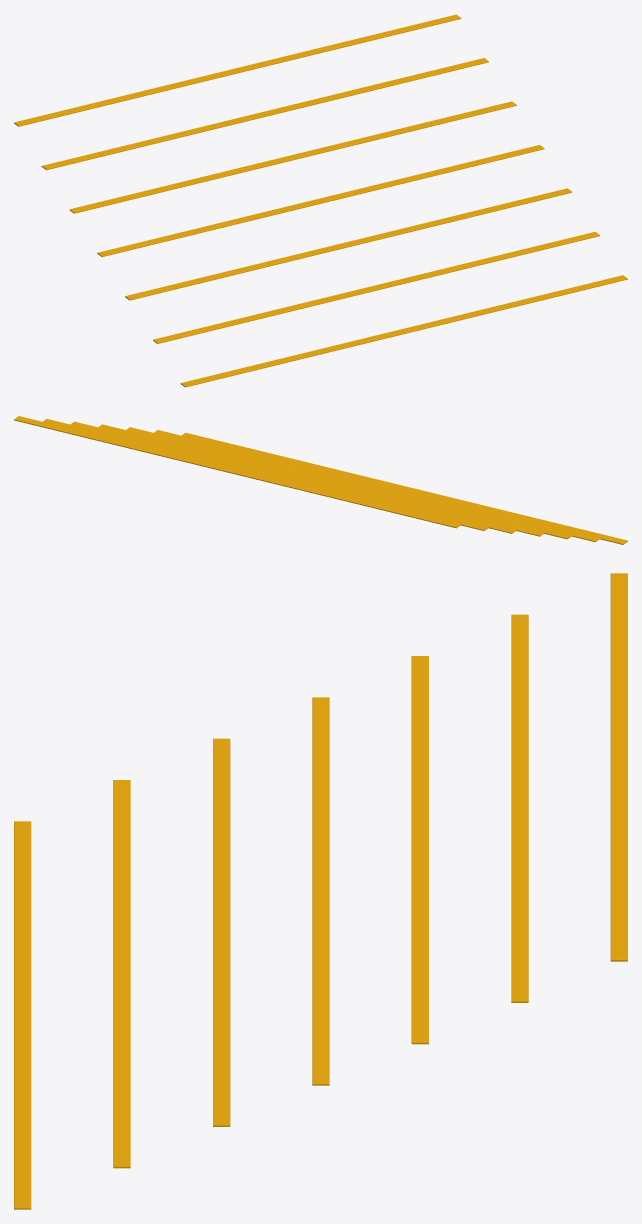
Rendered from gteki_ik_stair_n7_r145_t316_w2923_nosing.glb.
3 renders of one model, top to bottom at view 1: azimuth 30°, elevation 25°; view 2: azimuth 150°, elevation 25°; view 3: azimuth 270°, elevation 25°, orthographic. The views are drawn at different scales.
Visible parts, largest first — view 1: VIS_nosings; view 2: VIS_nosings; view 3: VIS_nosings.
Part boxes in pixels (x1,y1,x2,y2): VIS_nosings: [14, 14, 627, 387]; VIS_nosings: [14, 416, 627, 544]; VIS_nosings: [14, 573, 627, 1209].
Size of the model in its own units: 2.91 by 0.876 by 1.95.
